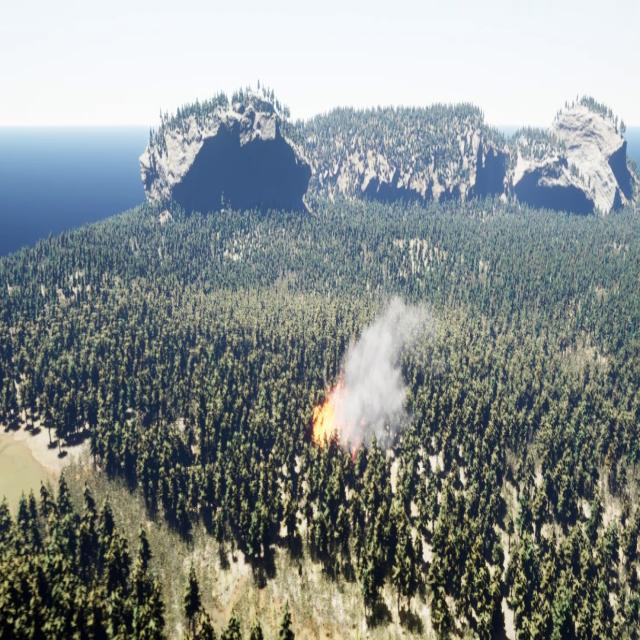fire: (314, 374, 359, 462)
smoke: (342, 289, 424, 452)
